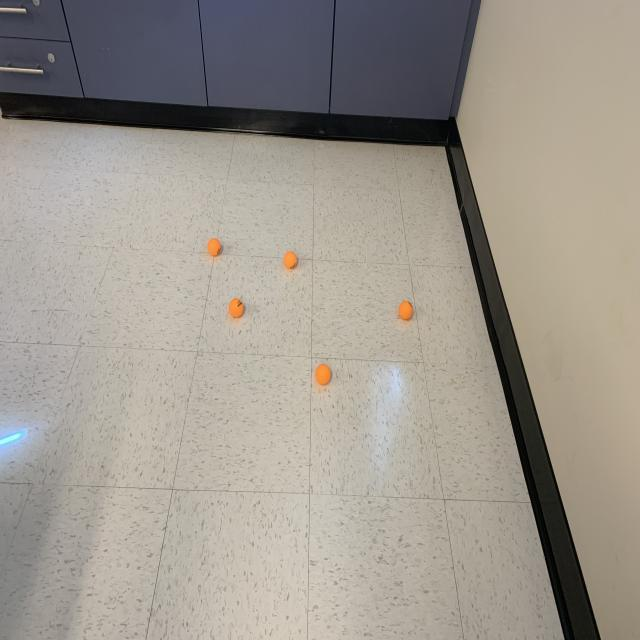ping-pong-ball: (314, 362, 332, 386), (228, 296, 245, 319), (397, 300, 414, 322), (206, 236, 222, 257), (283, 250, 298, 270)
